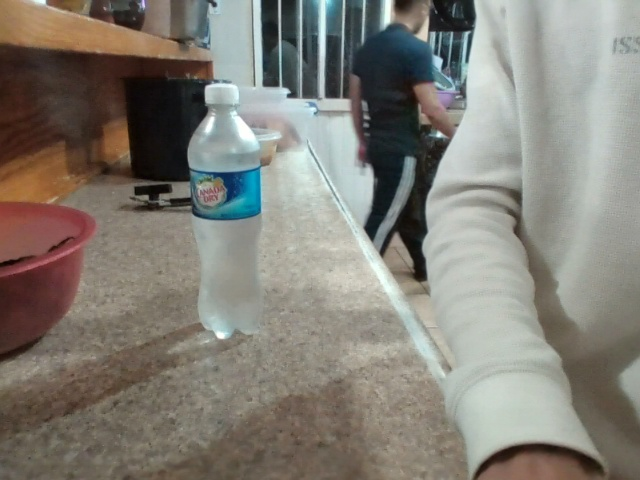botella: (156, 75, 334, 395)
